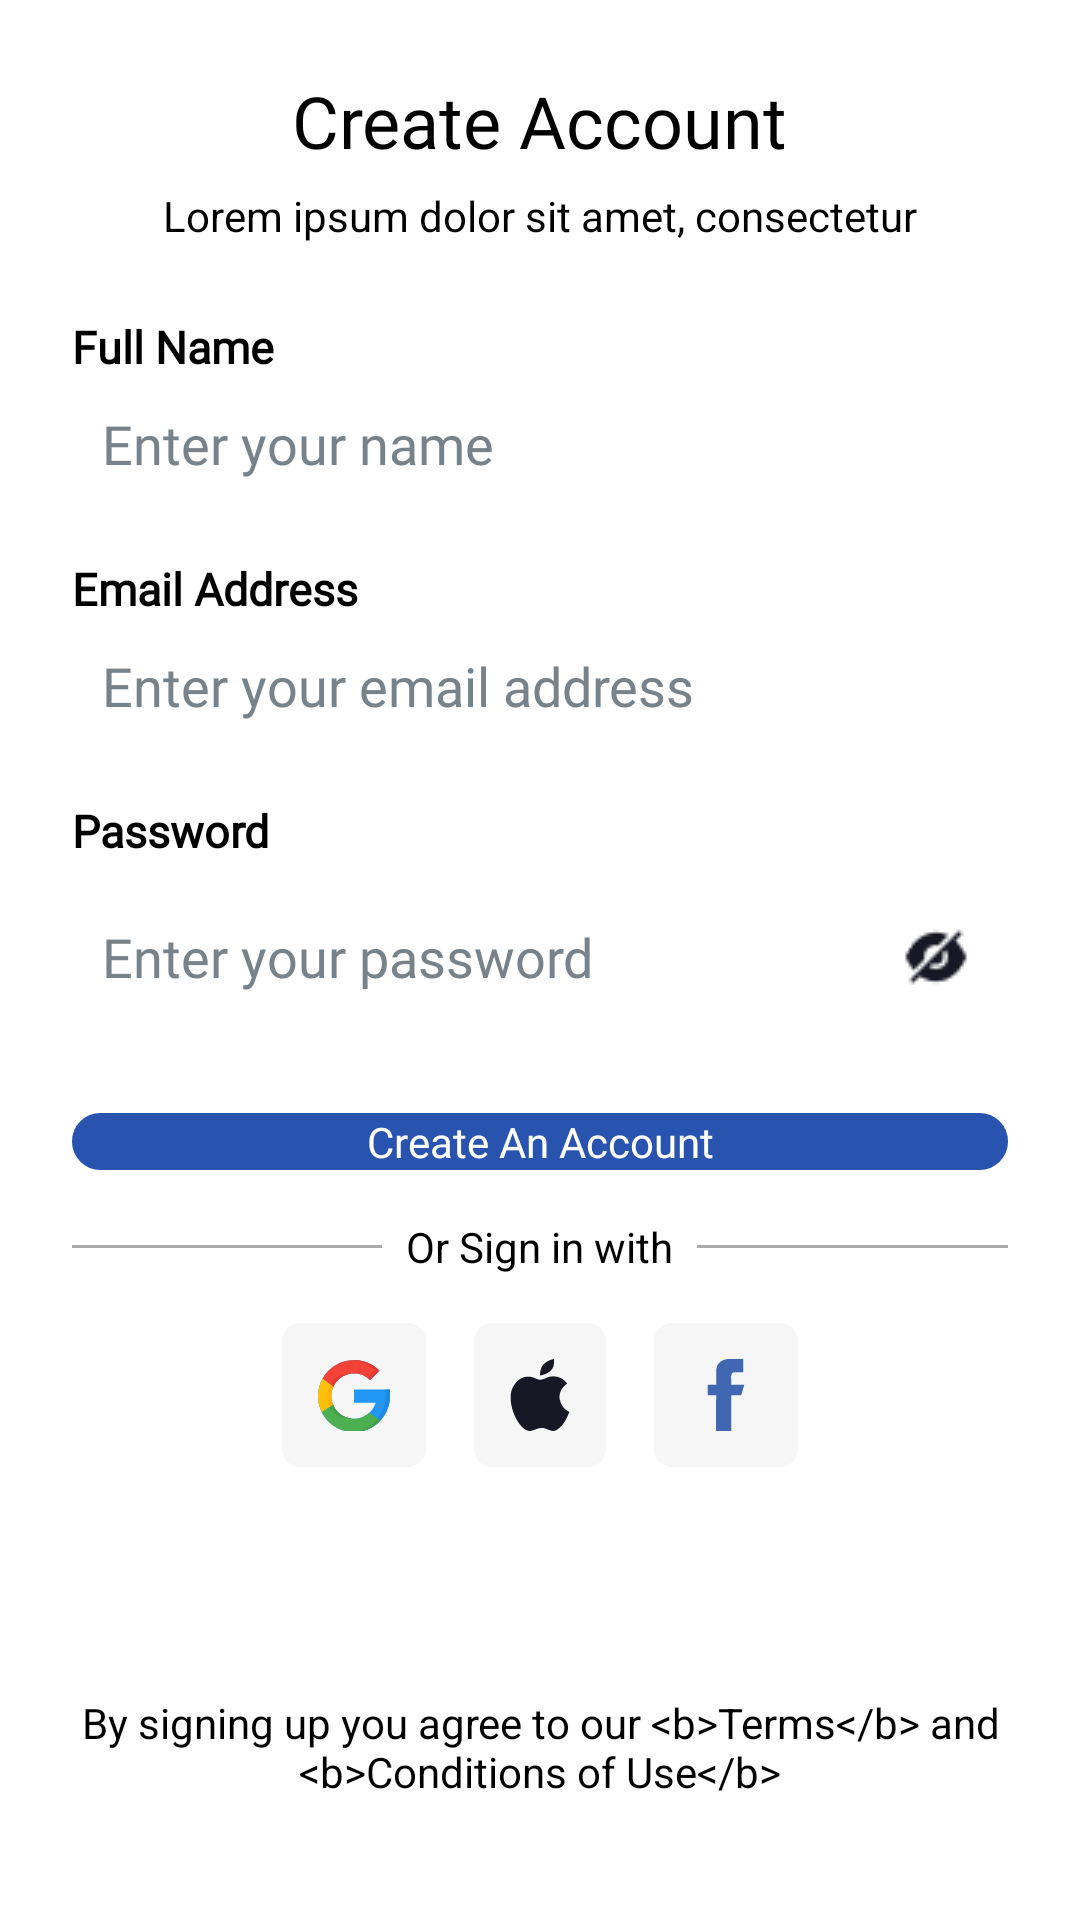

Where icons sit on this 1080*1920 app screen, as (x1, y1, x2, y2):
Toggle password visibility: (905, 929, 967, 985)
